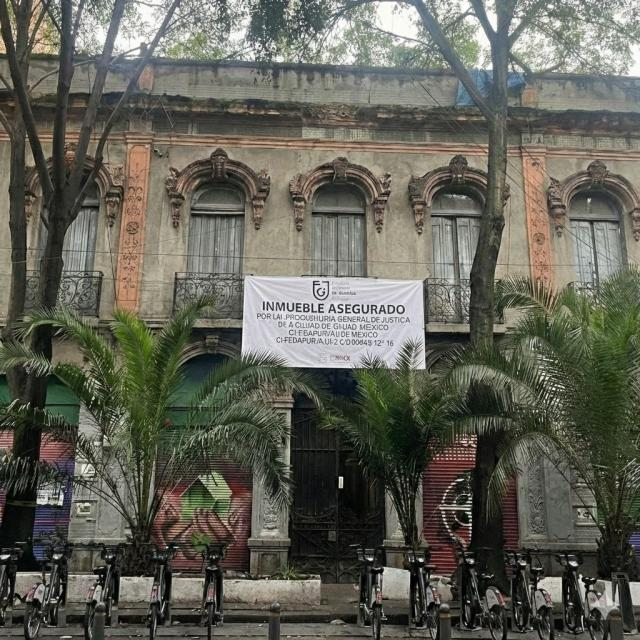stamps: (241, 277, 424, 367)
